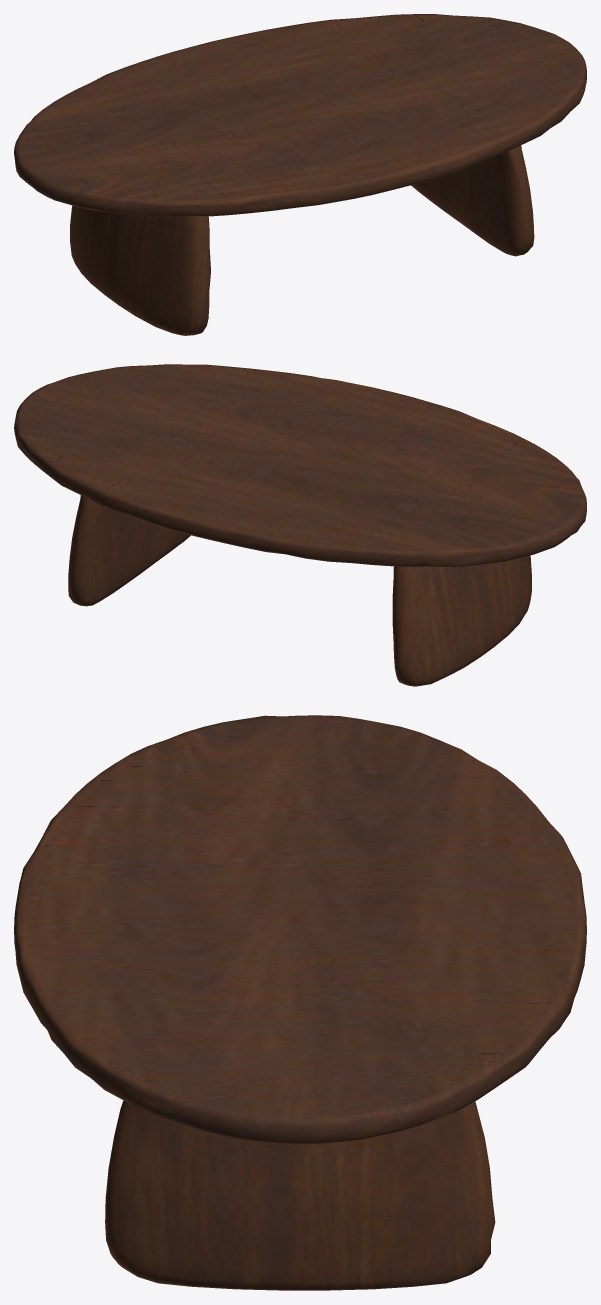
File: oval-low-table-v2.glb
3 renders of one model, top to bottom at view 1: azimuth 30°, elevation 25°; view 2: azimuth 150°, elevation 25°; view 3: azimuth 270°, elevation 25°, orthographic. The views are drawn at different scales.
Parts seen in each view (by area): view 1: geometry_0; view 2: geometry_0; view 3: geometry_0.
Part boxes in pixels (x1,y1,x2,y2): geometry_0: [14, 14, 586, 335]; geometry_0: [14, 364, 586, 686]; geometry_0: [14, 715, 586, 1290].
Bounding box in the file's own units: 0.9531 × 0.2524 × 0.562.
1 material, 1 textured.
